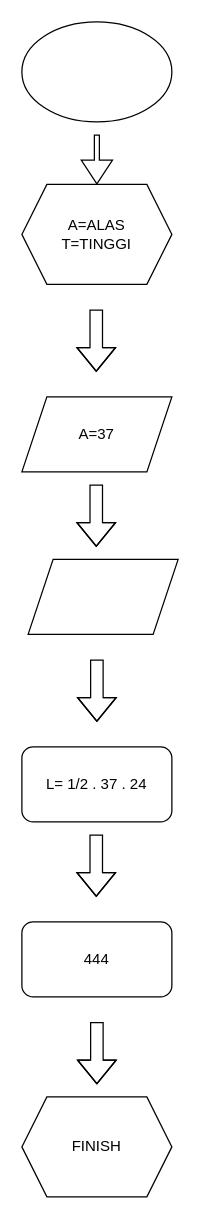
The diagram is 200 pixels wide and 1219 high, and some of its shapes have lost their labels. Each missing label, with the box of its shape:
START: (21, 21, 172, 122)
T=24: (27, 558, 178, 634)
